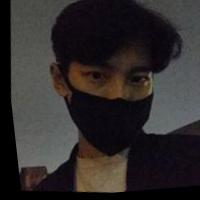WRONG: (49, 48, 161, 157)
